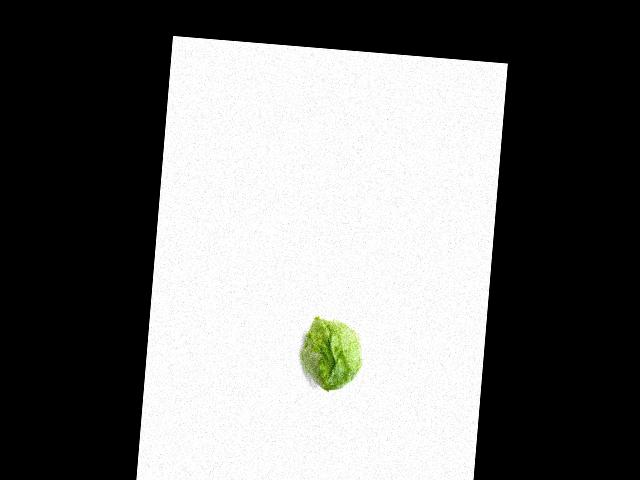lettuce: (294, 316, 370, 393)
